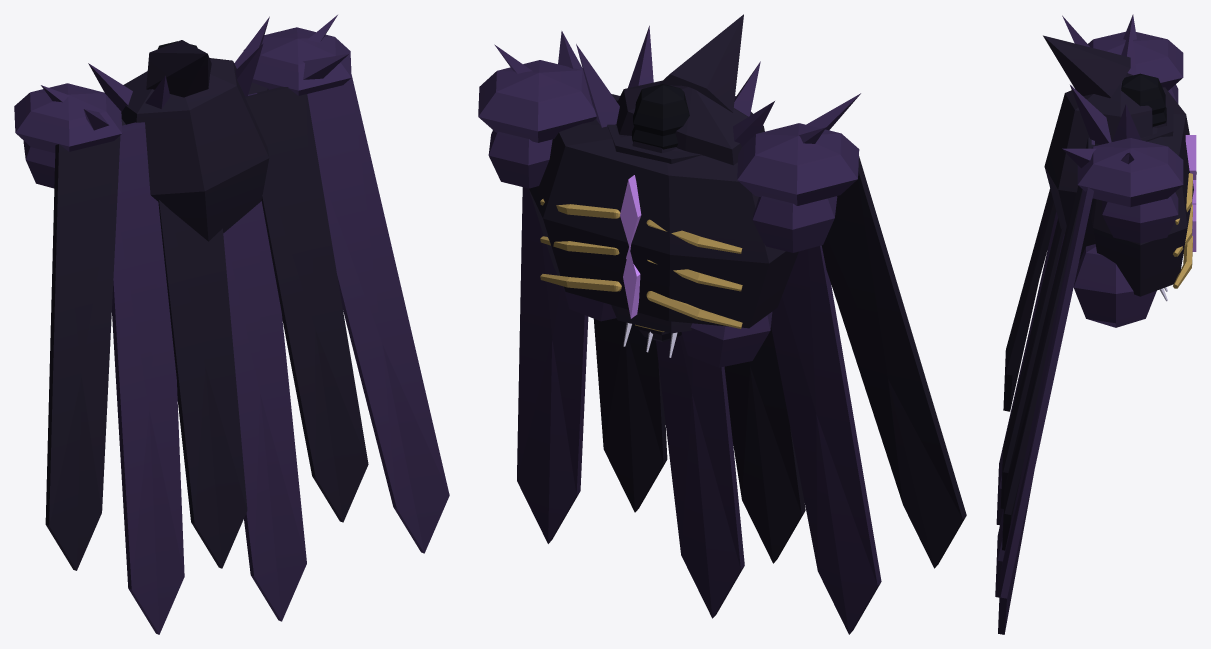
The model's file is keeper_the_darkened.fbx.
3 renders of one model, left to right at view 1: azimuth 30°, elevation 25°; view 2: azimuth 150°, elevation 25°; view 3: azimuth 270°, elevation 25°, orthographic. The views are drawn at different scales.
Visible parts, largest first — view 1: Torso_Cloak, Head_Hood, Torso; view 2: Torso_Cloak, Torso, Head_Hood, LForearm, Waist, Torso_Glow; view 3: Torso_Cloak, Head_Hood, Torso, LForearm, Torso_Glow, Waist.
Part boxes in pixels (<box>): Torso_Cloak: <box>14,15,449,634</box>; Head_Hood: <box>121,40,269,241</box>; Torso: <box>23,82,268,188</box>; Torso_Cloak: <box>478,25,966,634</box>; Torso: <box>488,119,837,328</box>; Head_Hood: <box>564,14,772,367</box>; LForearm: <box>633,84,689,331</box>; Waist: <box>607,124,701,333</box>; Torso_Glow: <box>620,175,641,318</box>; Torso_Cloak: <box>995,14,1183,634</box>; Head_Hood: <box>1043,35,1156,327</box>; Torso: <box>1091,84,1196,296</box>; LForearm: <box>1121,73,1165,114</box>; Torso_Glow: <box>1185,135,1196,251</box>; Waist: <box>1141,106,1173,141</box>.
Bounding box in the file's own units: 902 × 1220 × 413.
4 materials, 1 textured.
